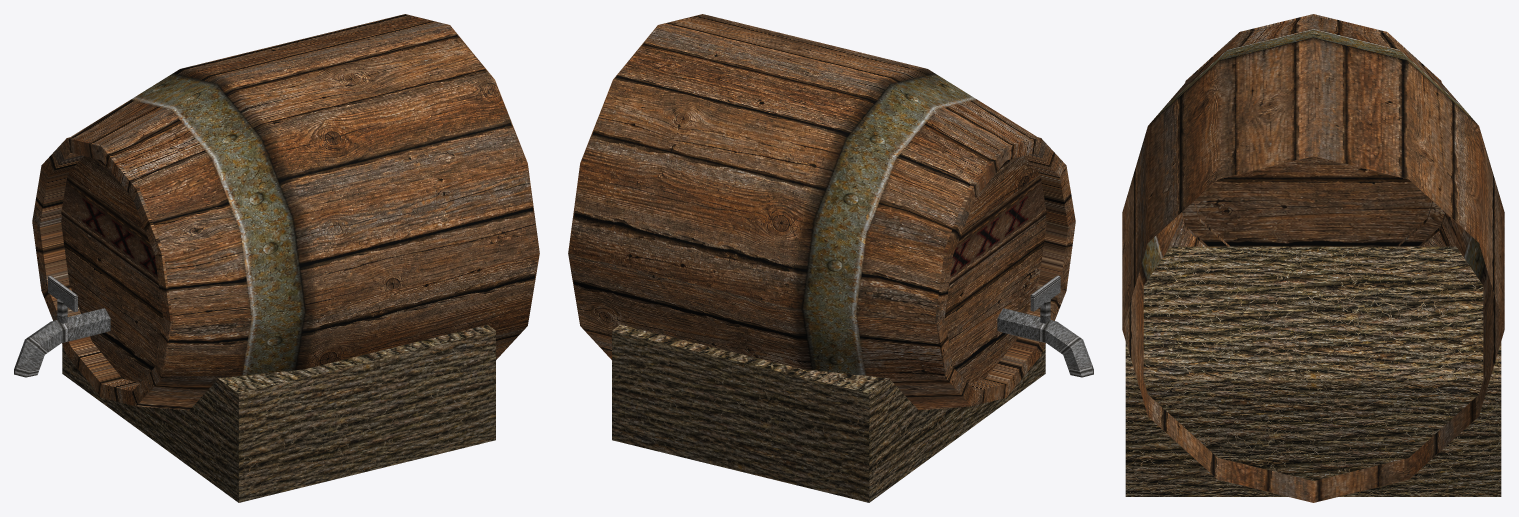
The model's file is mm9_deco_kegbeer.glb.
The picture shows the model from 3 angles, left to right: view 1: azimuth 30°, elevation 25°; view 2: azimuth 150°, elevation 25°; view 3: azimuth 270°, elevation 25°; orthographic projection. The views are drawn at different scales.
Parts seen in each view (by area): view 1: Kegbeer; view 2: Kegbeer; view 3: Kegbeer.
Part boxes in pixels (x1,y1,x2,y2): Kegbeer: (14,14,539,502); Kegbeer: (568,14,1093,502); Kegbeer: (1122,14,1504,502).
Bounding box in the file's own units: 1.24 × 0.9273 × 0.8866.
Materials: 2 (2 with a texture image).
